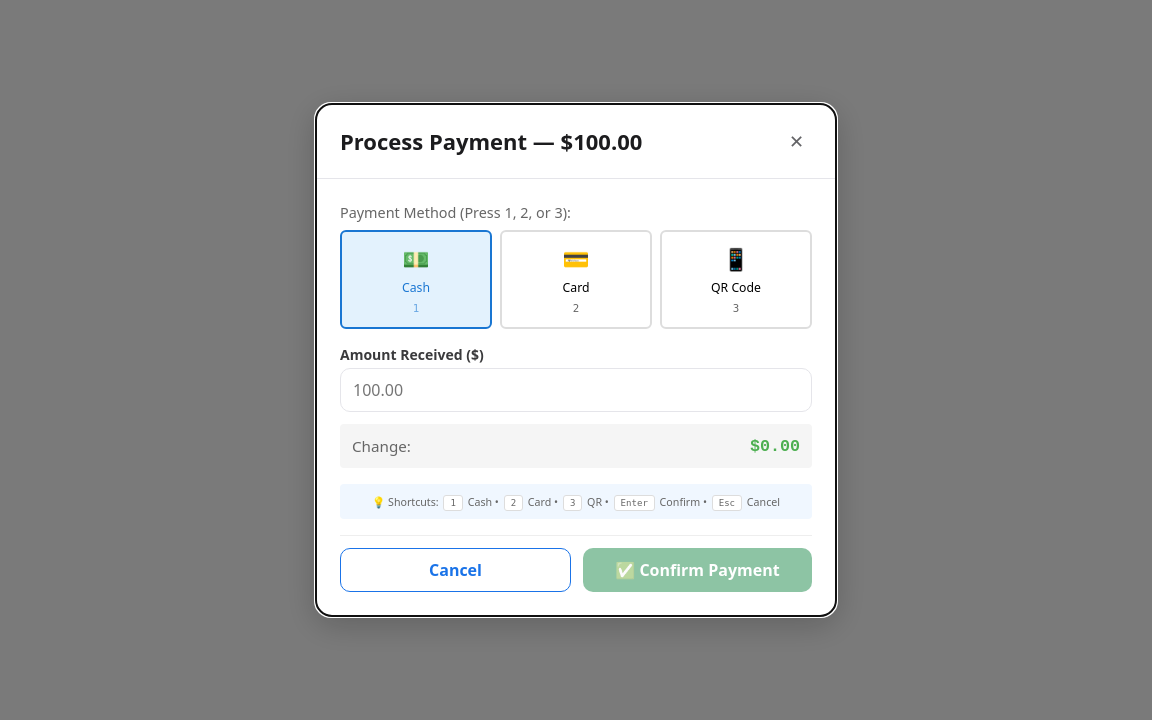
Test: PaymentModalEnhanced › Payment Method Switching › should switch to card method when card button is clicked
What coordinates should you click on to do the following:
click the button with test id "payment-method-card"
I would click on:
 (576, 280)
Its box is [500, 230, 652, 329].
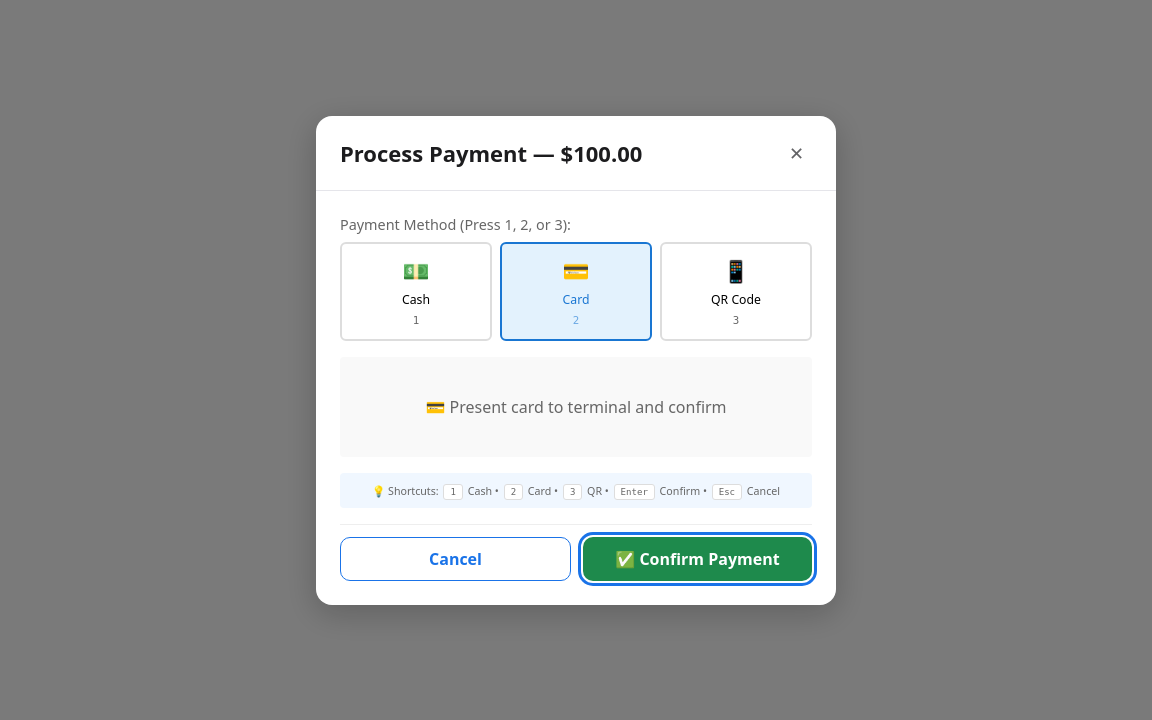
Expected: the number field with test id "cash-amount-input" is gone
